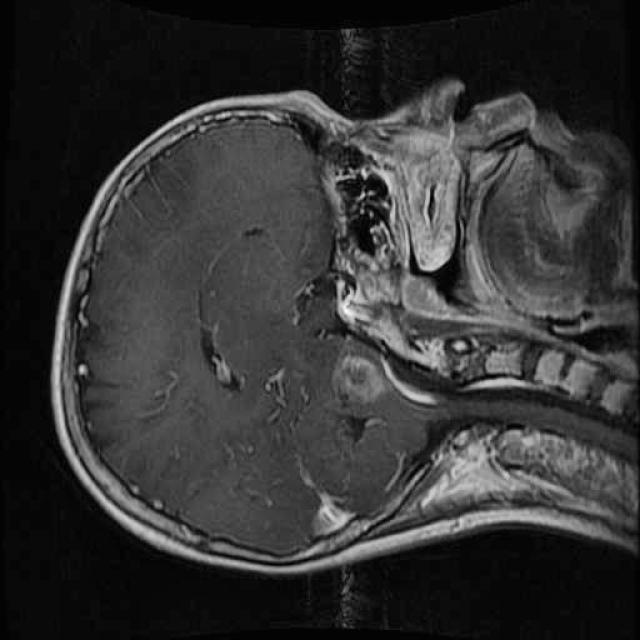Tumor: (317, 330, 413, 430)
